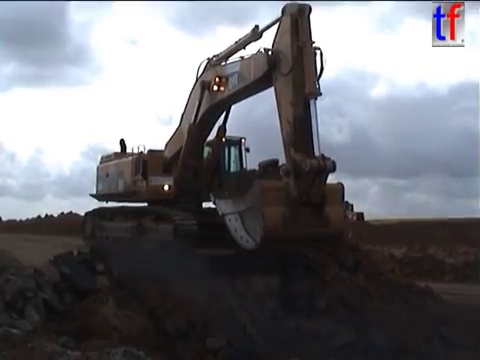excavator: (79, 1, 350, 255)
wheel loader: (281, 194, 367, 239)
